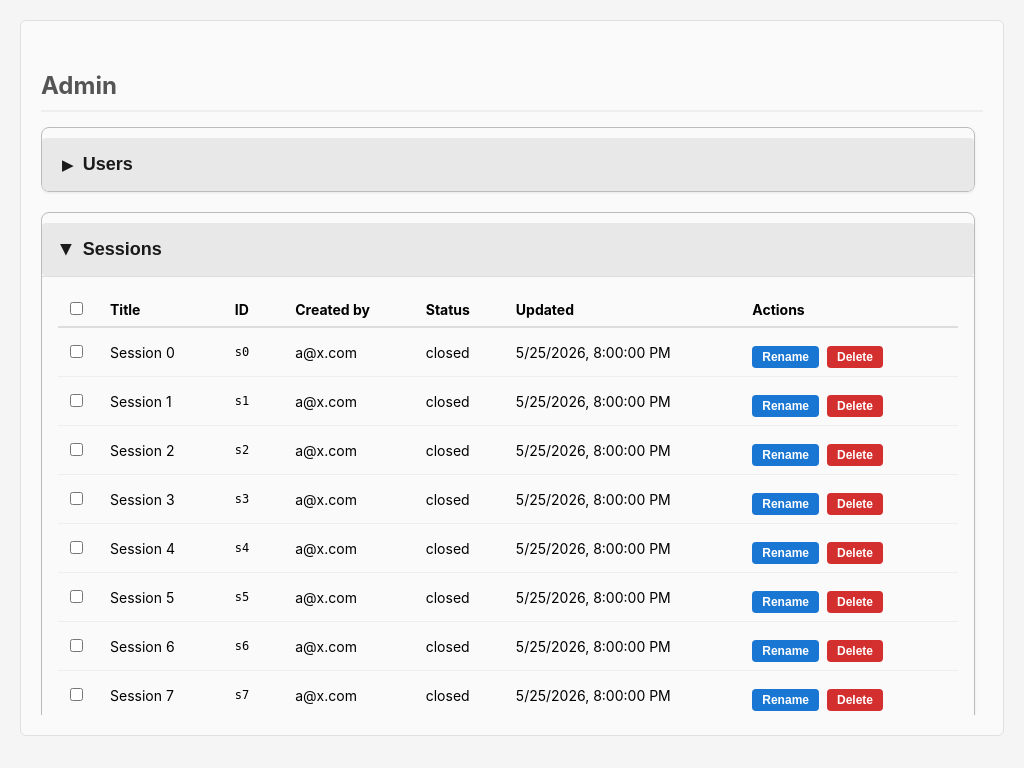
Scenario: Type-to-confirm for large bulk deletes (SCRUM-584) › gates the Sessions delete behind typing the exact count when > 10 selected
The image size is (1024, 768).
Step 1. Click the checkbox named "Select all sessions" → (76, 308), box 70,302 -> 83,315
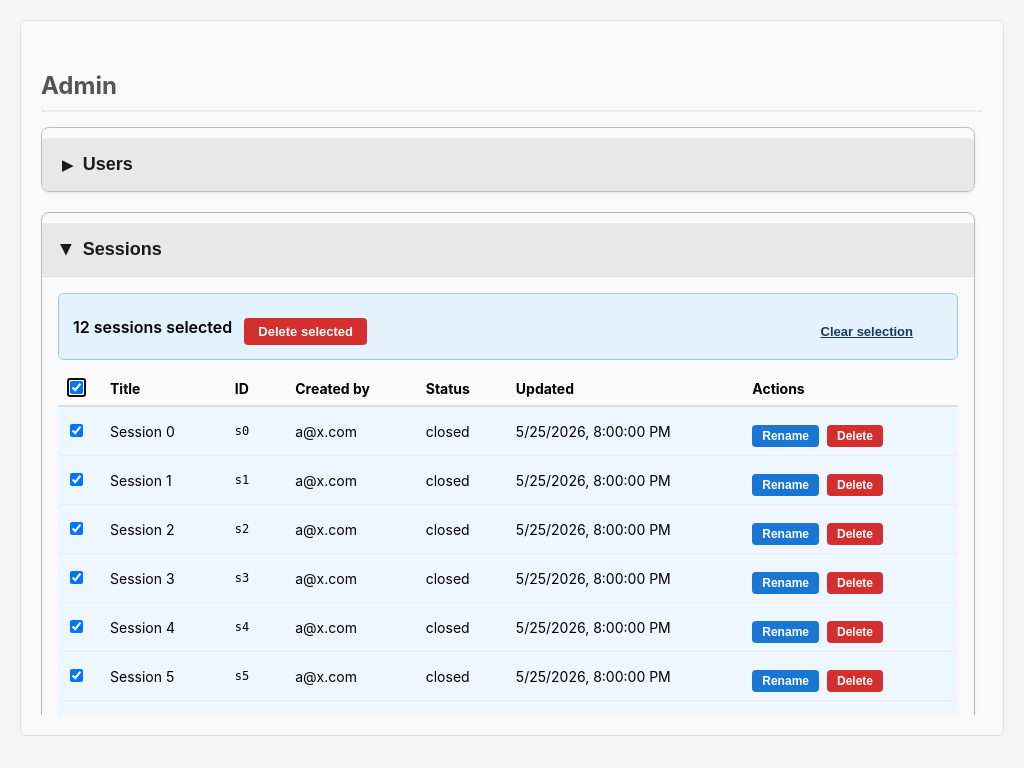
Step 2. Click the button "Delete selected" → (306, 332), box 244,318 -> 367,345
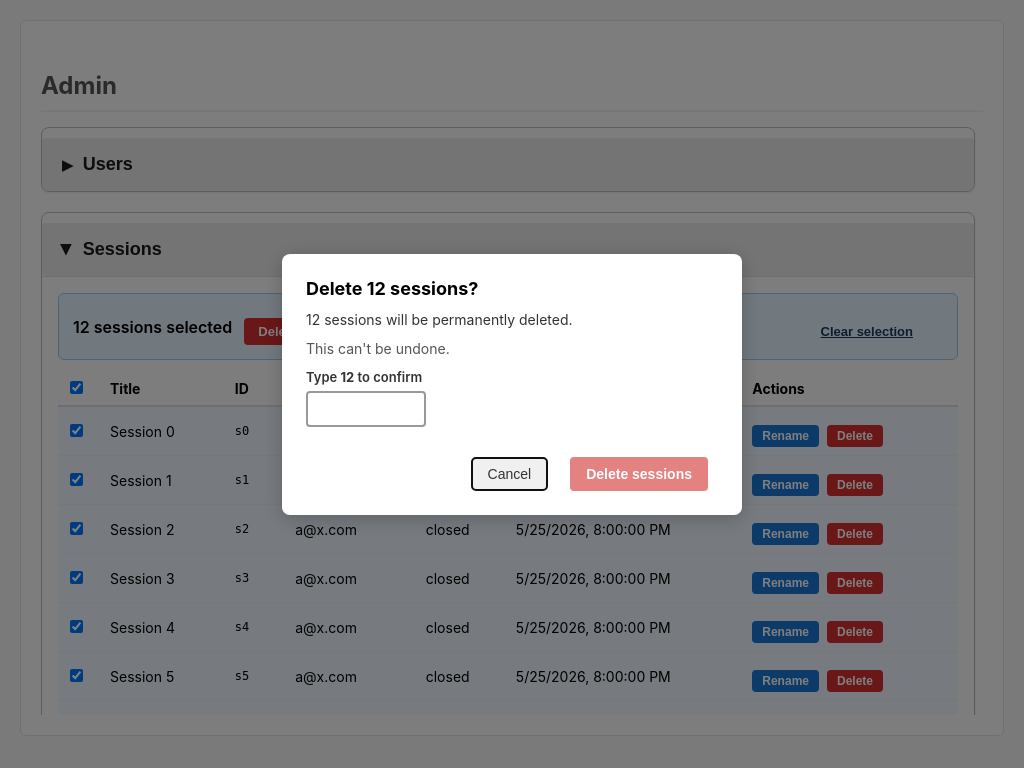
Expected: the heading "Delete 12 sessions?" is shown, 306,278 -> 478,298
Expected: the button "Delete sessions" is disabled, 570,456 -> 708,490
Step 3. Type "12" into the field labelled "Type 12 to confirm" → (366, 408), box 306,390 -> 426,426
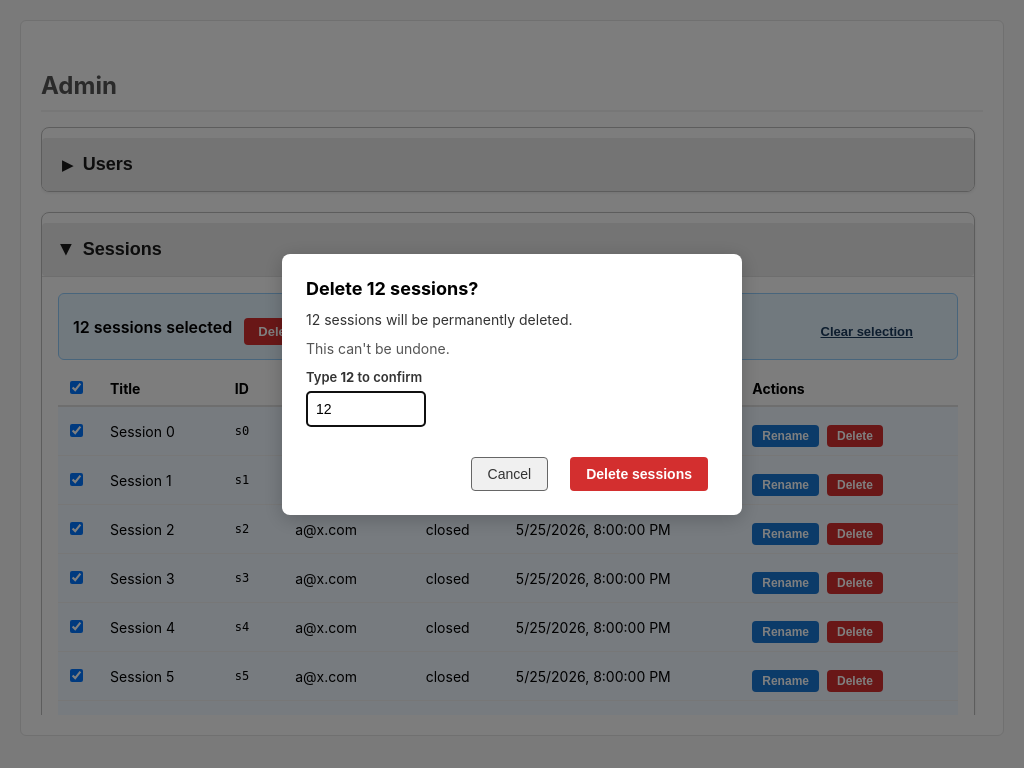
Expected: the button "Delete sessions" is enabled, 570,456 -> 708,490
